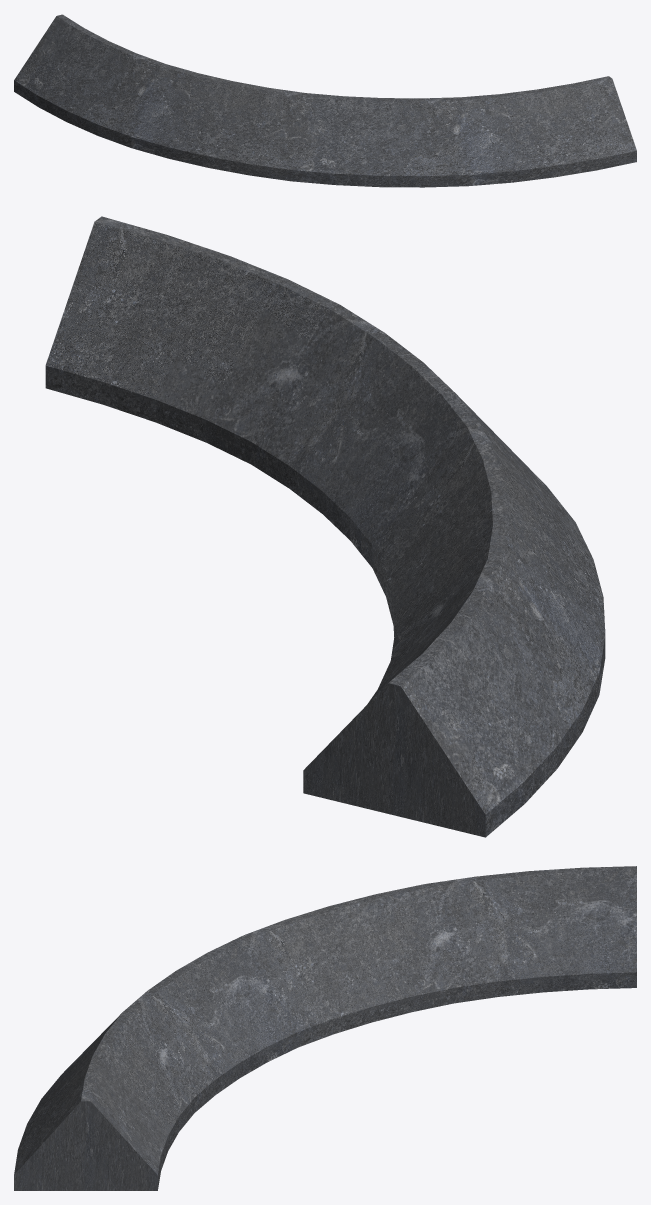
The model's file is 90Ramp.fbx.
3 views of the same model, one above another, from view 1: azimuth 30°, elevation 25°; view 2: azimuth 150°, elevation 25°; view 3: azimuth 270°, elevation 25° (orthographic). The views are drawn at different scales.
Visible parts, largest first — view 1: SurfRamp.003; view 2: SurfRamp.003; view 3: SurfRamp.003.
Boxes of the visible parts, x1,y1,x2,y2 form: SurfRamp.003: (14,14,636,187); SurfRamp.003: (45,216,605,837); SurfRamp.003: (14,866,636,1190).
Size of the model in its own units: 9.58 by 1.51 by 9.57.
